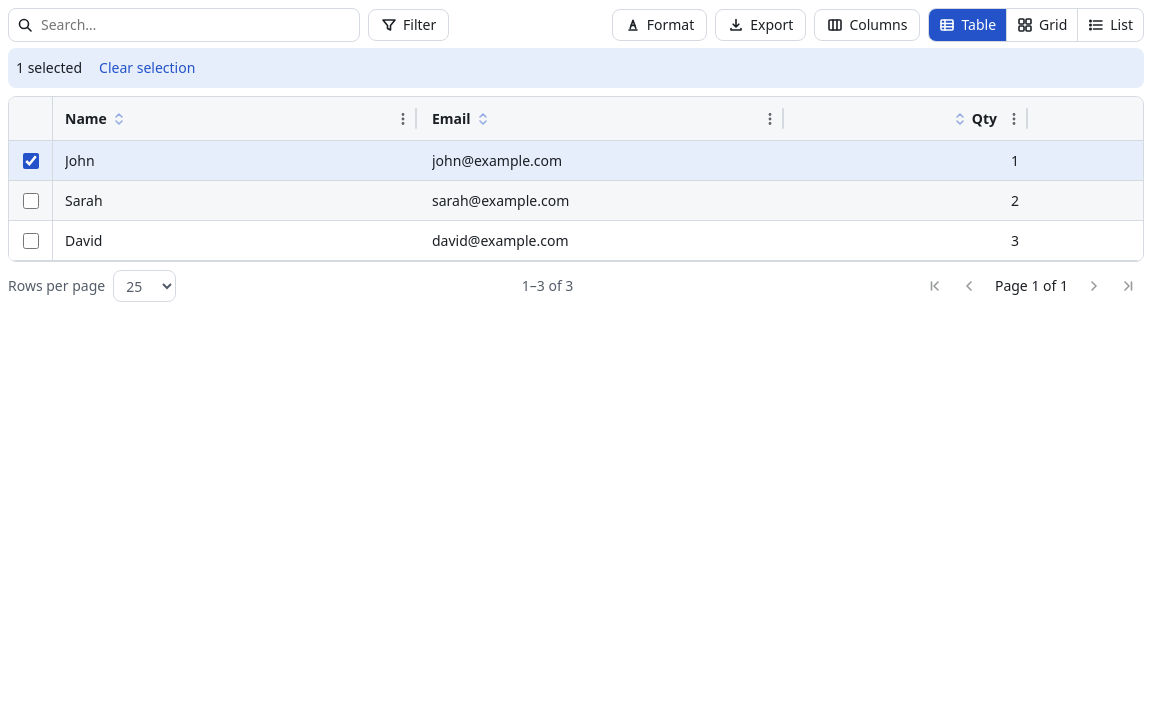
Test: row context menu › opens View, Edit, and Delete for the right-clicked row, not the selected row
Right-click the row "Sarah sarah@example.com 2": {"x": 576, "y": 201} [9,181,1143,221]
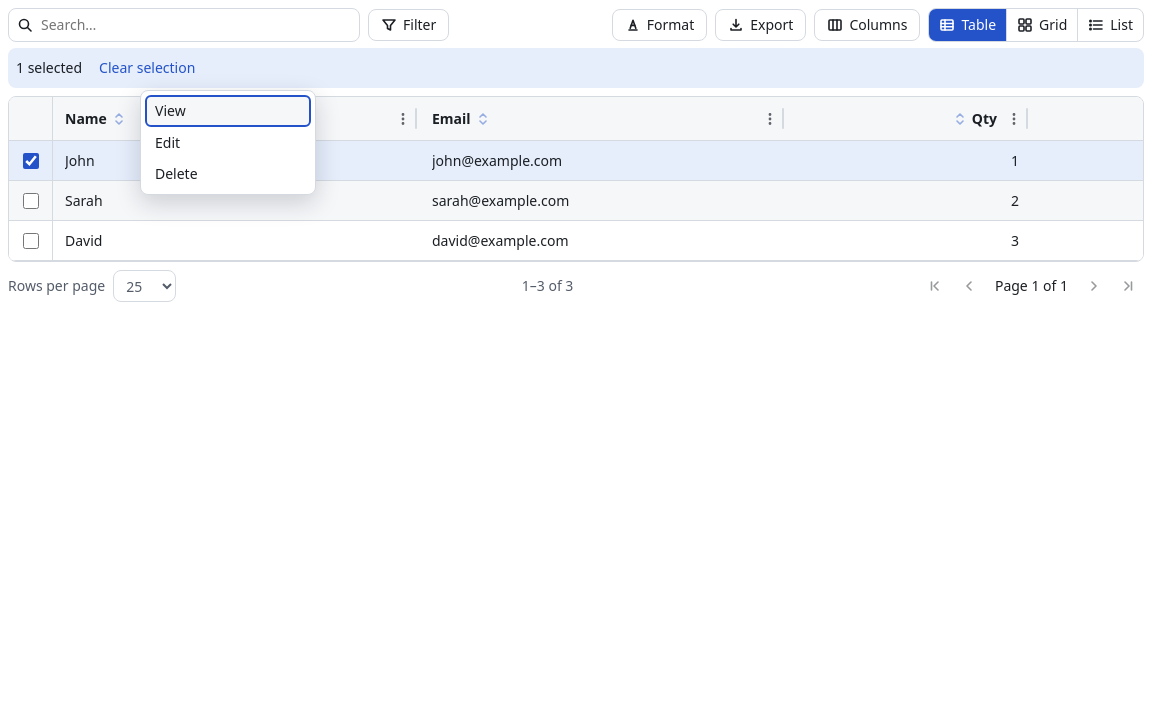
Expected: the menu item "View" is shown
Expected: the menu item "Edit" is shown, [145,127,311,158]
Expected: the menu item "Delete" is shown, [145,158,311,190]
Click the menu item "View": {"x": 228, "y": 111} [145,95,311,127]
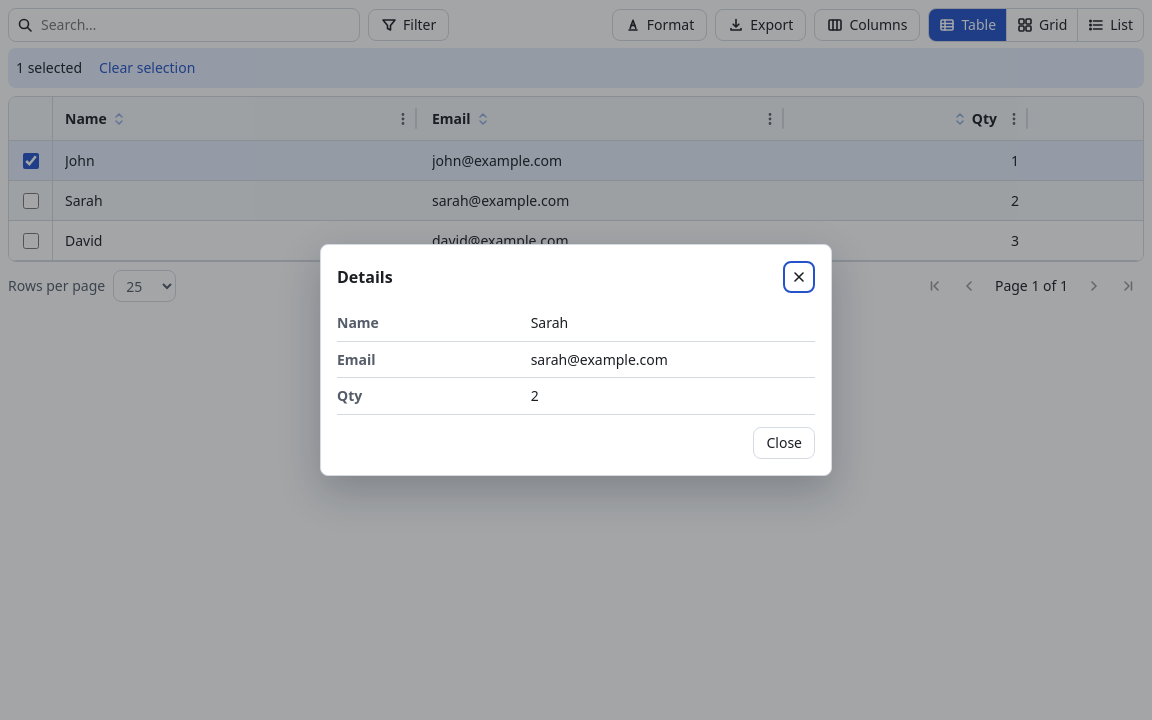
Expected: the dialog "Details" does not show "john@example.com", [320,244,832,476]
Expected: the dialog "Details" shows "sarah@example.com", [531,350,668,369]
Click the button "Close": {"x": 784, "y": 443} [754,427,815,459]
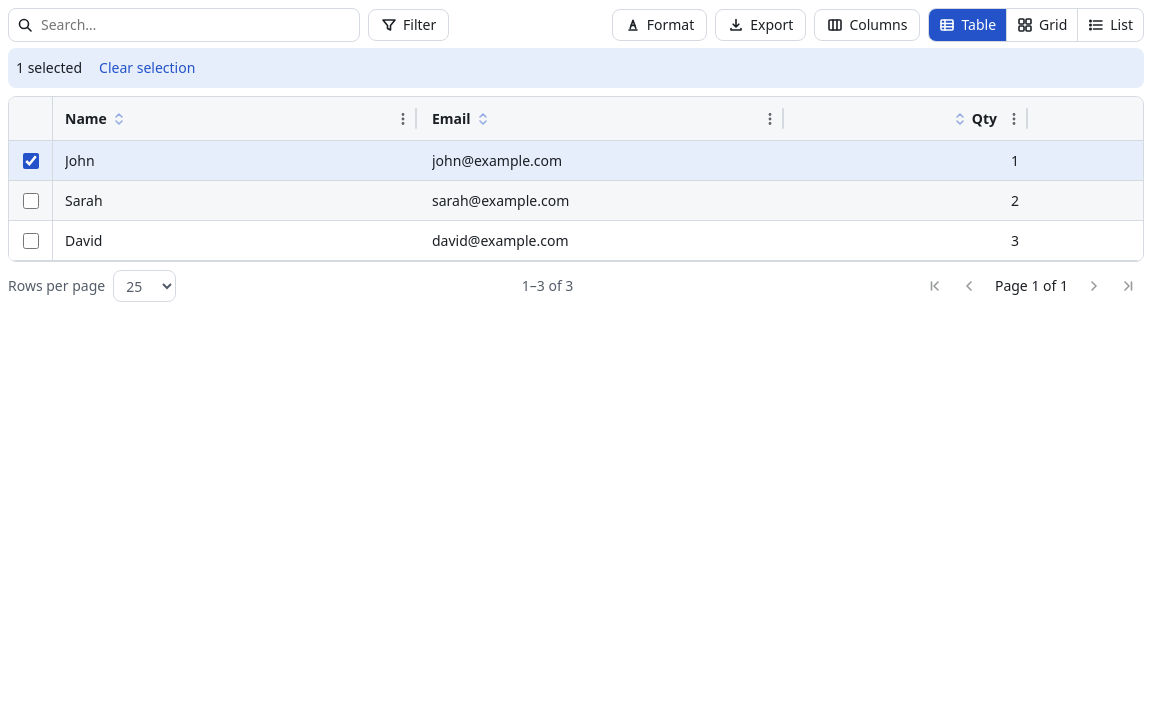
Expected: the dialog is gone
